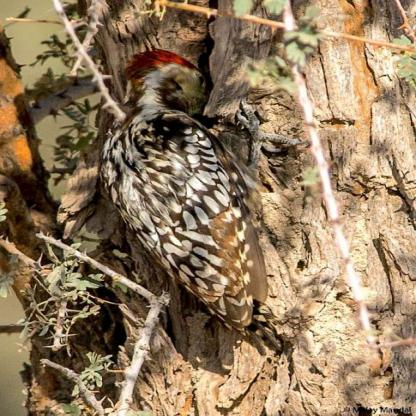Burung: (100, 49, 268, 324)
